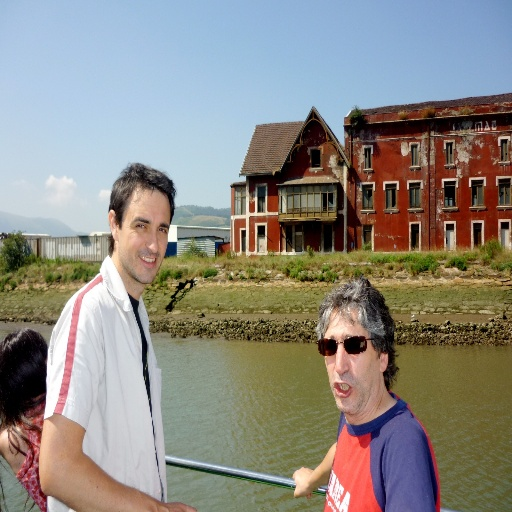hand: (291, 466, 317, 499), (160, 503, 196, 511)
